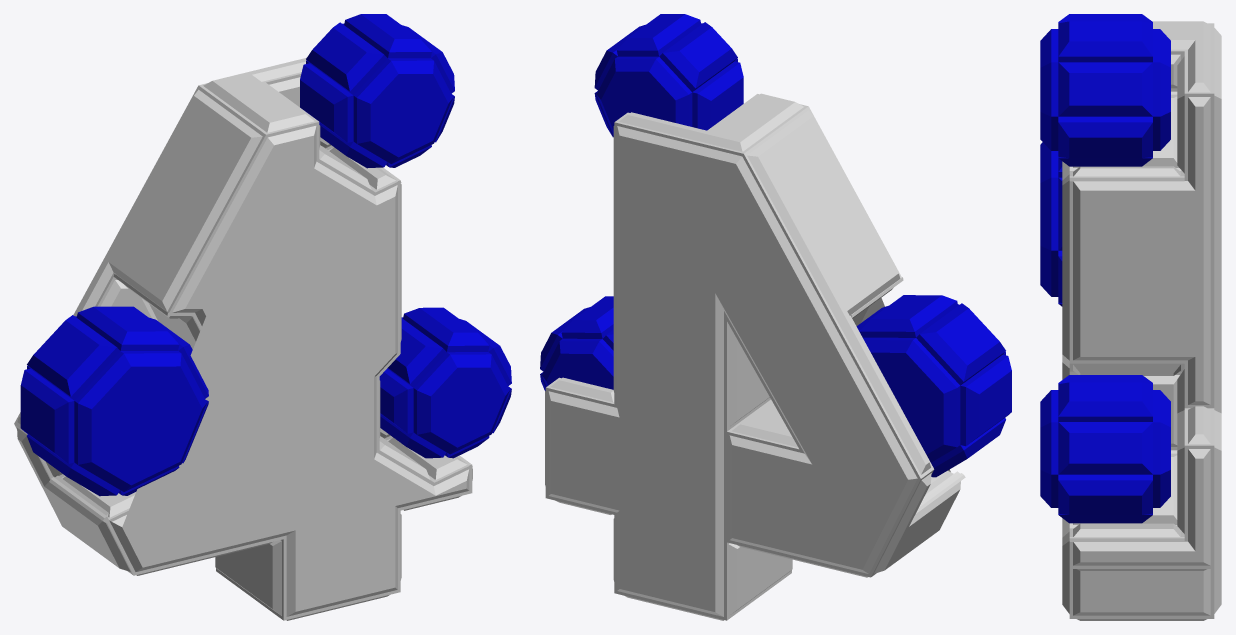
3 views of the same model, side by side, from view 1: azimuth 30°, elevation 25°; view 2: azimuth 150°, elevation 25°; view 3: azimuth 270°, elevation 25° (orthographic). The views are drawn at different scales.
Parts seen in each view (by area): view 1: sphere1; view 2: sphere1; view 3: sphere1.
Boxes of the visible parts, x1,y1,x2,y2 form: sphere1: (14,14,511,620); sphere1: (540,14,1011,620); sphere1: (1040,14,1221,620).
Bounding box in the file's own units: 0.7791 × 0.9153 × 0.2503.
